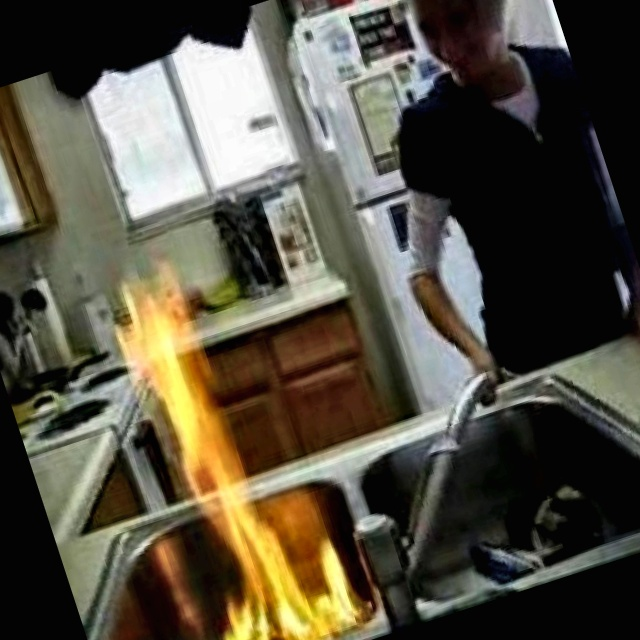fire: (86, 228, 381, 640)
